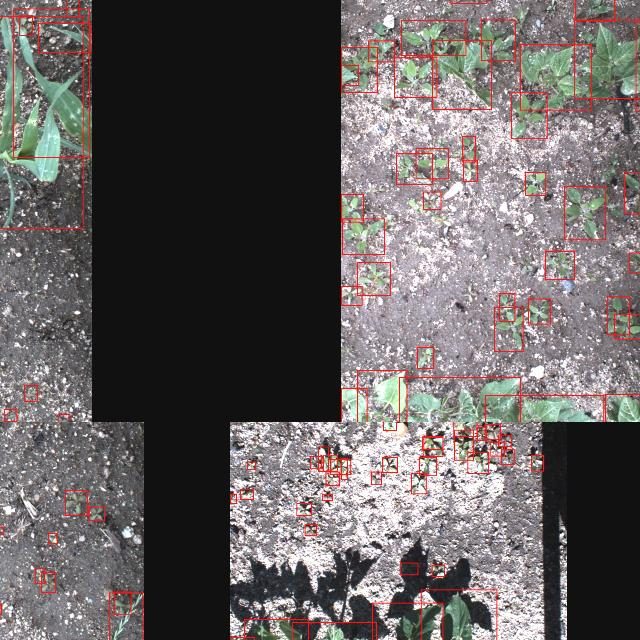crop: (0, 16, 82, 228), (13, 7, 89, 156), (398, 376, 519, 422), (574, 18, 640, 97), (520, 44, 590, 110), (432, 40, 491, 109), (420, 589, 496, 640), (484, 395, 603, 422), (371, 602, 442, 640), (356, 370, 406, 422), (38, 22, 90, 52), (291, 622, 376, 640), (243, 618, 307, 640), (604, 393, 640, 422), (340, 387, 366, 422), (340, 65, 358, 85)
weed: (400, 20, 466, 54), (563, 186, 605, 238), (394, 57, 436, 97), (340, 46, 376, 92), (510, 92, 546, 138), (109, 592, 143, 640), (341, 218, 383, 254), (480, 18, 514, 59), (493, 307, 522, 351), (395, 152, 431, 184), (356, 262, 389, 294), (415, 148, 447, 178), (606, 296, 630, 334), (544, 251, 574, 279), (574, 0, 614, 20), (624, 171, 640, 213), (614, 313, 640, 338), (340, 193, 362, 221), (64, 490, 88, 514), (528, 298, 550, 324), (453, 429, 472, 459), (367, 40, 393, 61), (524, 172, 546, 194), (468, 452, 488, 472), (500, 293, 514, 321), (423, 436, 442, 456), (416, 347, 434, 368), (341, 286, 362, 304), (114, 592, 130, 614), (418, 456, 436, 474), (330, 458, 350, 474), (410, 473, 426, 493), (462, 135, 474, 161), (453, 422, 476, 435), (422, 192, 440, 208), (463, 160, 477, 180), (41, 572, 55, 592), (20, 15, 32, 35), (318, 446, 328, 470), (422, 437, 442, 449), (24, 384, 38, 400), (89, 506, 105, 520), (322, 454, 336, 470), (382, 456, 396, 472), (484, 424, 500, 438), (629, 252, 640, 272), (399, 562, 417, 574), (65, 0, 78, 16), (501, 448, 514, 464), (325, 471, 339, 485), (490, 441, 504, 455), (531, 454, 543, 470), (296, 503, 310, 515), (4, 409, 16, 421), (432, 564, 444, 576), (498, 434, 510, 446), (340, 457, 346, 479), (476, 426, 486, 439), (240, 489, 252, 499), (304, 524, 316, 534), (310, 456, 320, 468), (371, 472, 381, 484), (36, 568, 44, 582), (58, 413, 70, 422), (382, 422, 395, 430), (48, 532, 56, 544), (246, 461, 254, 469), (322, 494, 332, 500), (230, 493, 235, 502), (0, 526, 3, 533)
